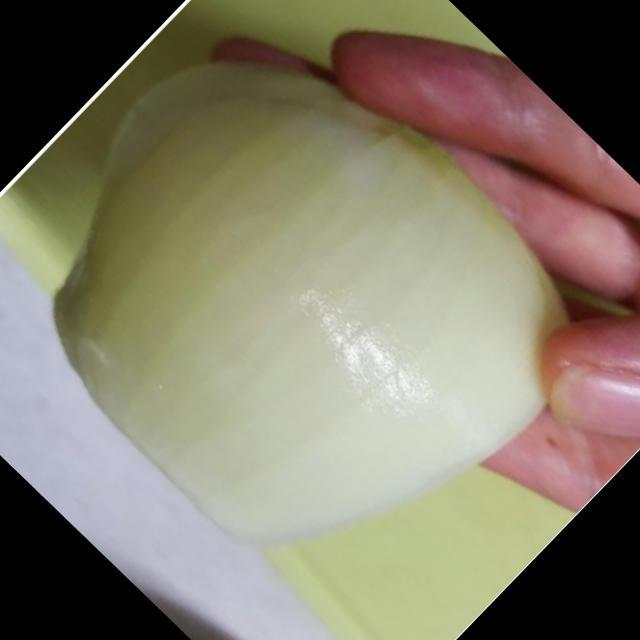Onion: (53, 66, 562, 546)
